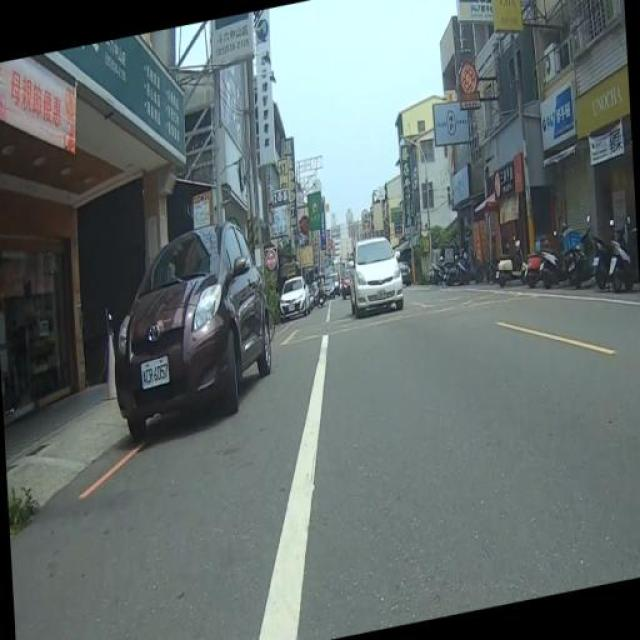Legalparking: (485, 216, 640, 315)
illegalparking: (102, 208, 283, 461)
